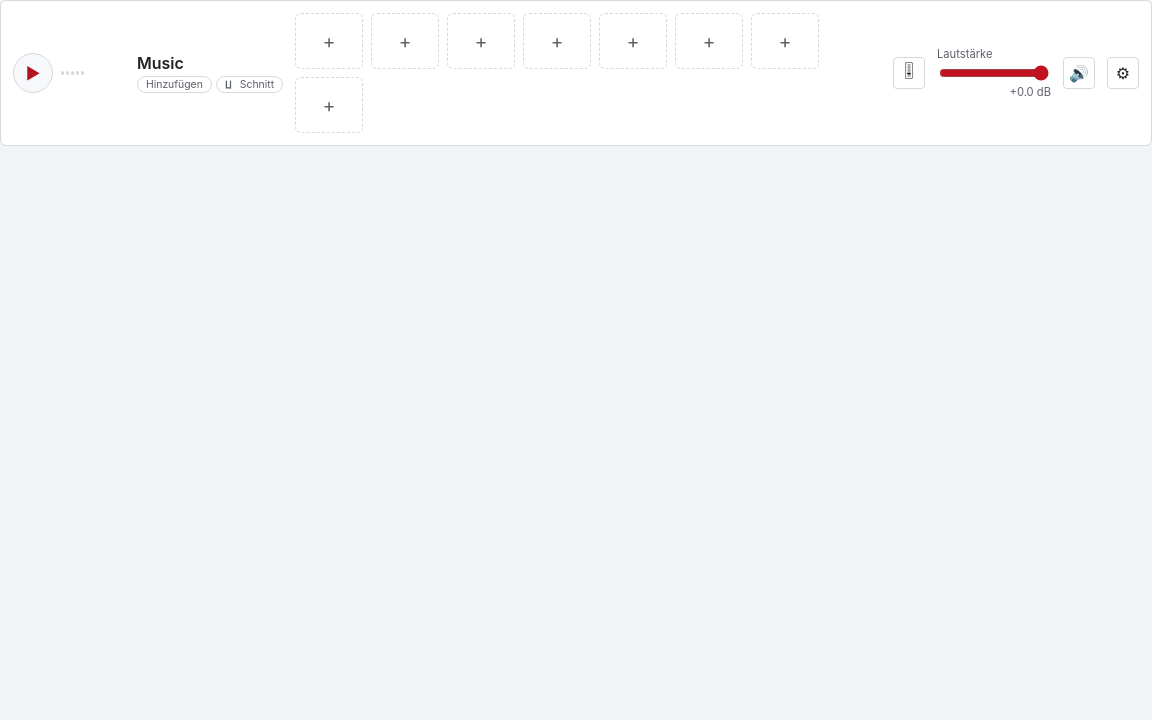
Test case: M15-S14 ChannelRow › mode + transition config popover › opens on the settings button and shows mode + transition controls
This screenshot has width=1152, height=720.
Click the button named "Kanaleinstellungen" at [1123, 73], box [1107, 57, 1139, 89]
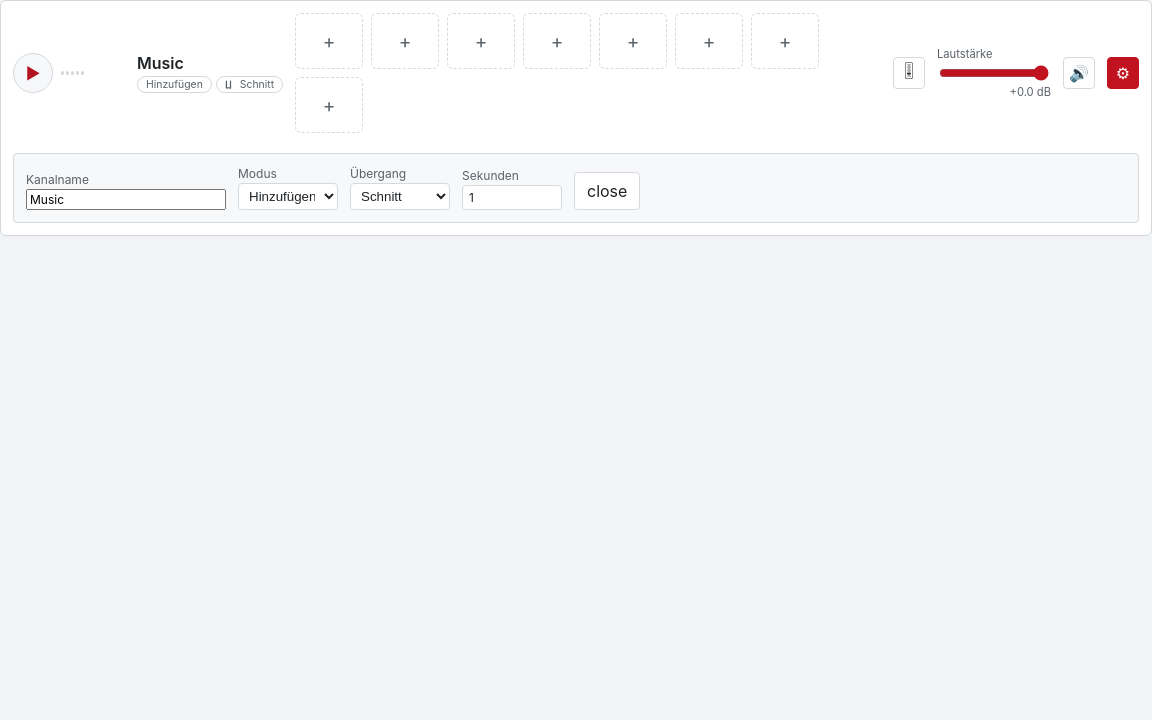
expect the dialog named "Kanaleinstellungen" is shown: met, box [13, 153, 1139, 223]
expect the dropdown labelled "Modus" shows "Hinzufügen": met, box [238, 183, 338, 210]
expect the dropdown labelled "Übergang" shows "Schnitt": met, box [350, 183, 450, 210]
